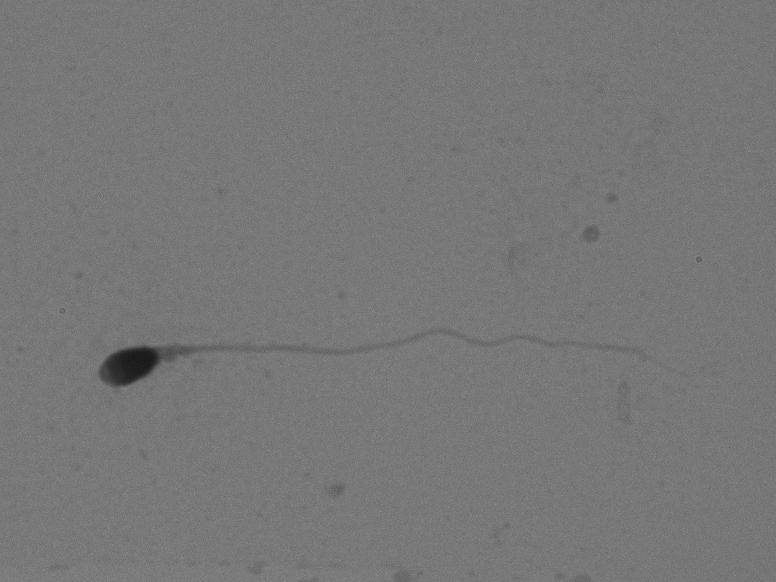Normal: (95, 291, 694, 403)
